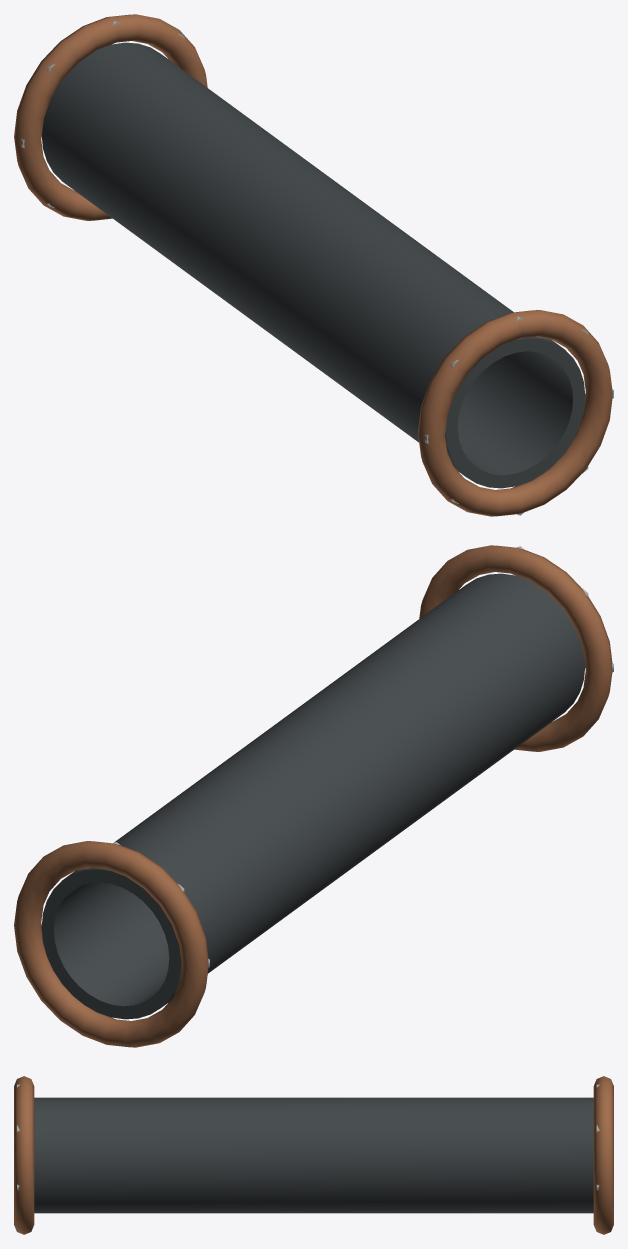
Rendered from undercity-sewers-and-thieves-den-iron-pipe-straight-2404790b__27198.glb.
3 renders of one model, top to bottom at view 1: azimuth 30°, elevation 25°; view 2: azimuth 150°, elevation 25°; view 3: azimuth 270°, elevation 25°, orthographic. The views are drawn at different scales.
Visible parts, largest first — view 1: iron-pipe-straight; view 2: iron-pipe-straight; view 3: iron-pipe-straight.
Part boxes in pixels (left/top/right/bottom): iron-pipe-straight: left=14, top=14, right=613, bottom=516; iron-pipe-straight: left=14, top=545, right=613, bottom=1047; iron-pipe-straight: left=14, top=1076, right=613, bottom=1234.
Size of the model in its own units: 0.5499 by 0.5499 by 2.07.
